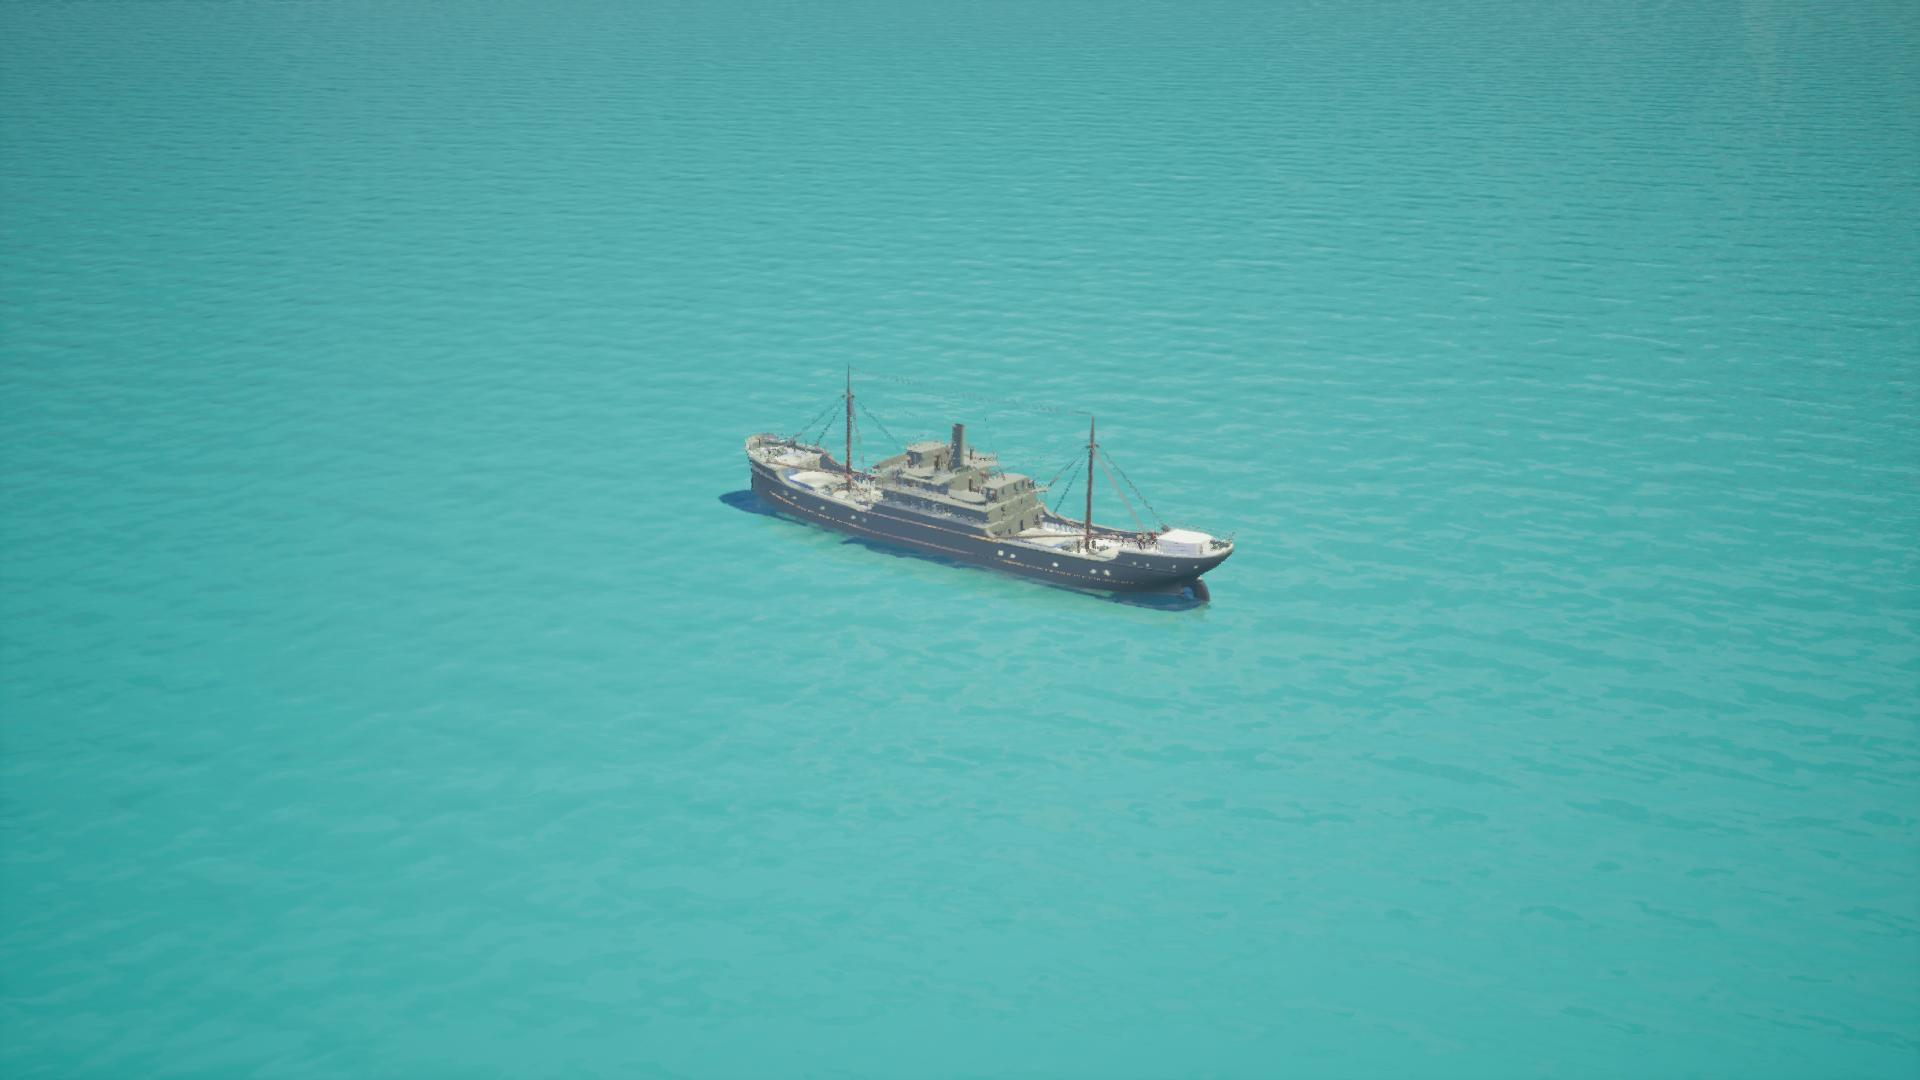Fishing Boat: (732, 390, 1233, 607)
